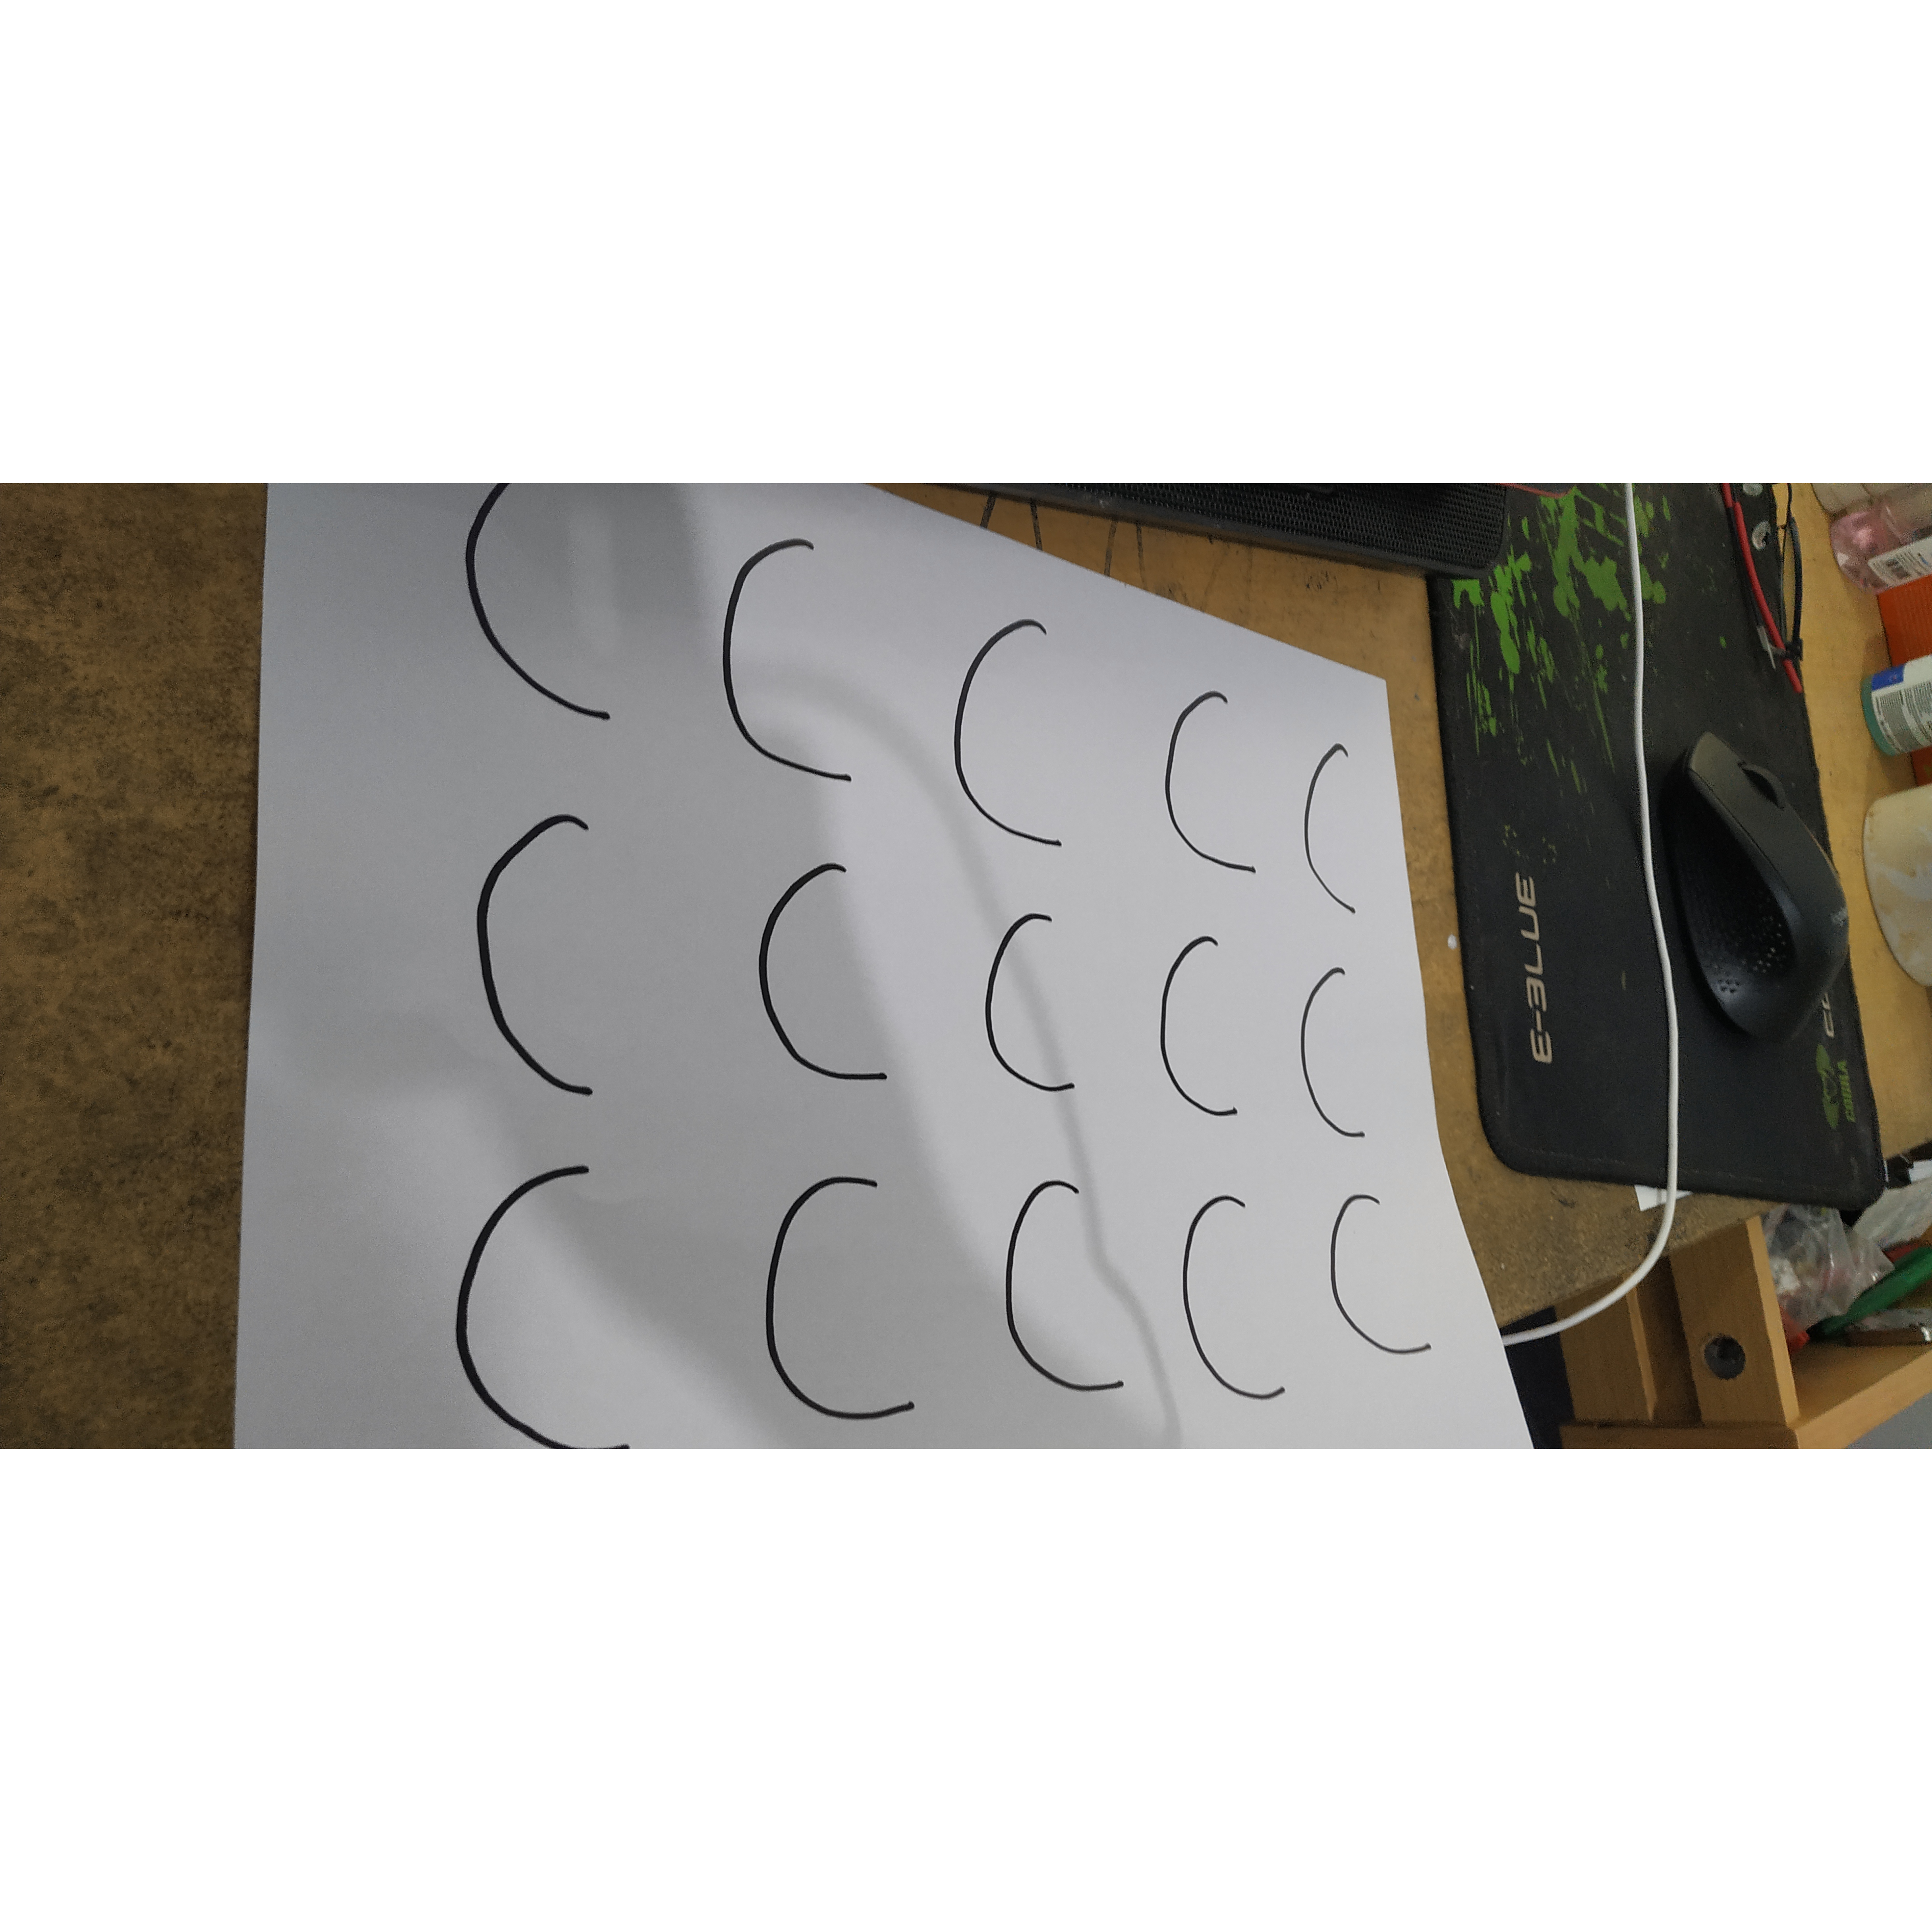openbracket: (427, 1159, 679, 1449), (673, 529, 924, 781), (446, 794, 620, 1132), (761, 1165, 941, 1434), (751, 840, 908, 1100), (998, 1176, 1154, 1409), (950, 603, 1082, 863), (965, 899, 1108, 1111), (1166, 1184, 1303, 1405), (1158, 668, 1271, 896), (1324, 1186, 1456, 1371), (1148, 930, 1250, 1132), (1299, 960, 1397, 1149), (1293, 731, 1374, 937)
